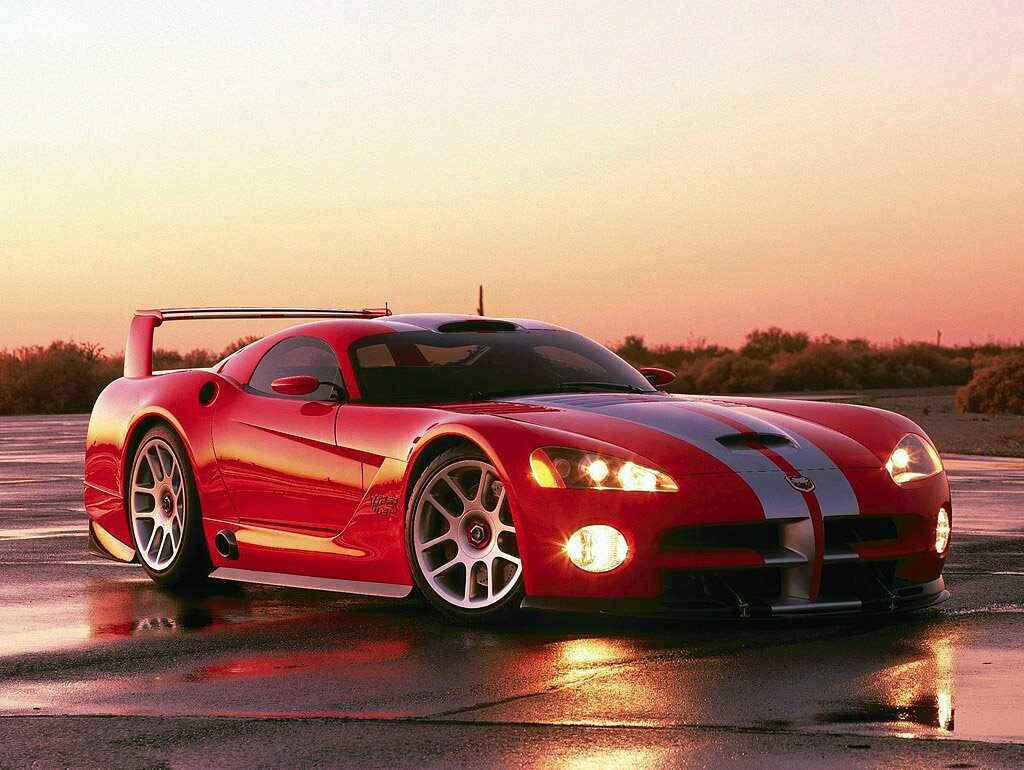small: (81, 300, 955, 629)
